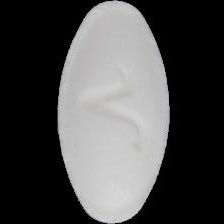64205-739: (0, 0, 224, 224)
